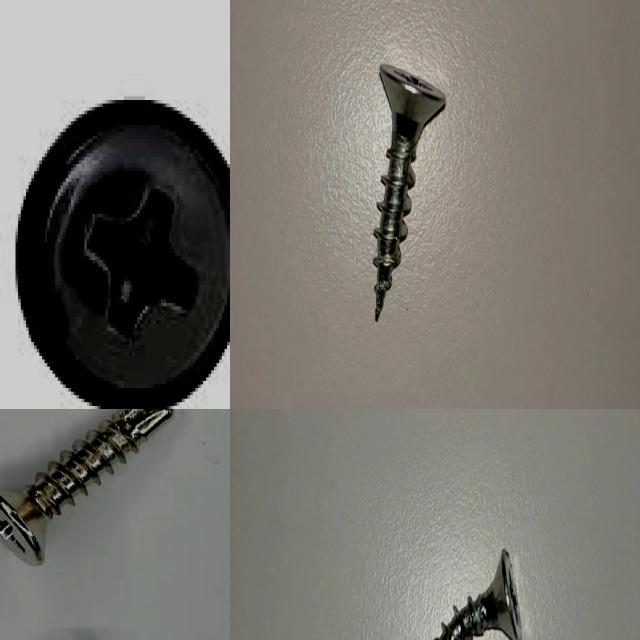Screw: (16, 100, 230, 409), (0, 409, 172, 566), (373, 63, 446, 321), (434, 548, 523, 640)
